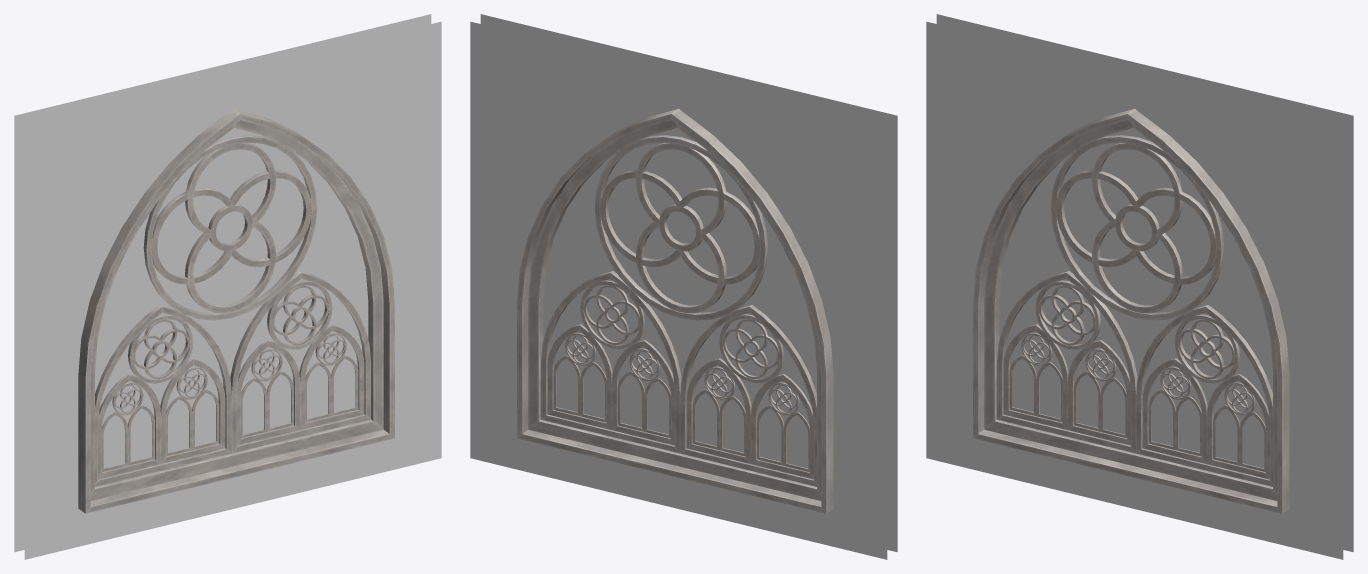
Rendered from Wall_Window_H_B.fbx.
3 views of the same model, side by side, from view 1: azimuth 30°, elevation 25°; view 2: azimuth 150°, elevation 25°; view 3: azimuth 330°, elevation 25° (orthographic).
Parts seen in each view (by area): view 1: Wall_Window_H_B; view 2: Wall_Window_H_B; view 3: Wall_Window_H_B.
Boxes of the visible parts, box(x1,y1,x2,y2) form: Wall_Window_H_B: box(14, 14, 441, 559); Wall_Window_H_B: box(470, 14, 897, 559); Wall_Window_H_B: box(926, 14, 1353, 559).
Bounding box in the file's own units: 6 × 0.6115 × 6.
